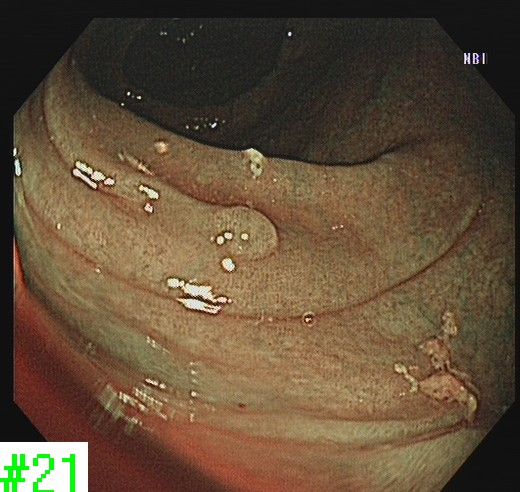others: (208, 203, 281, 261)
